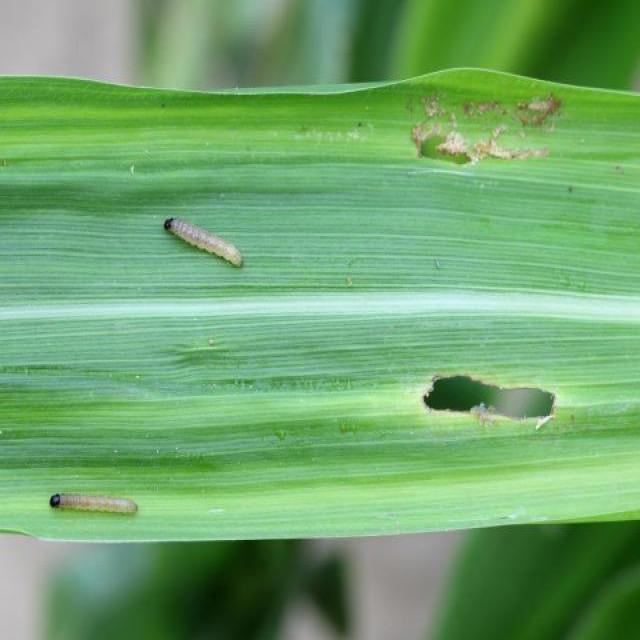cornborer-Larva-: (150, 212, 261, 282), (40, 477, 153, 531)
